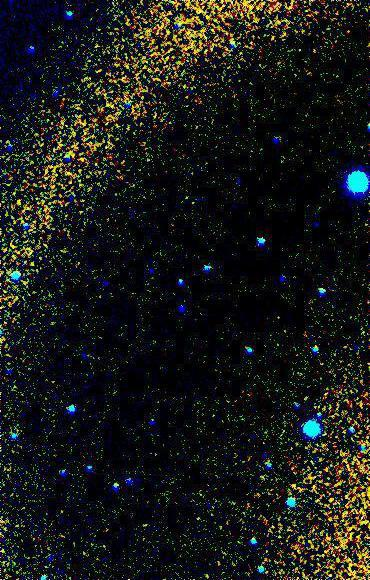star: (3, 187, 33, 217)
